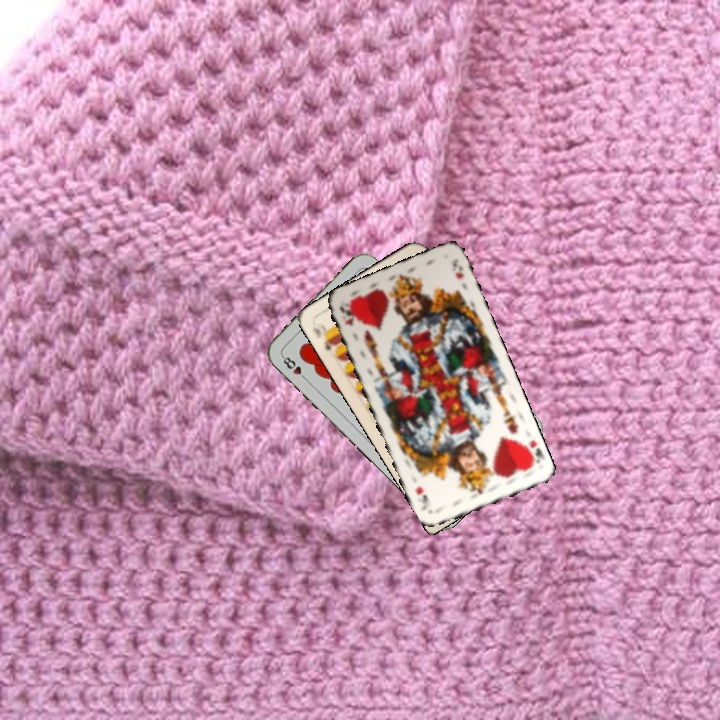E10: (308, 319, 339, 354)
H8: (278, 351, 310, 383)
HK: (517, 435, 545, 469), (335, 301, 357, 328)
